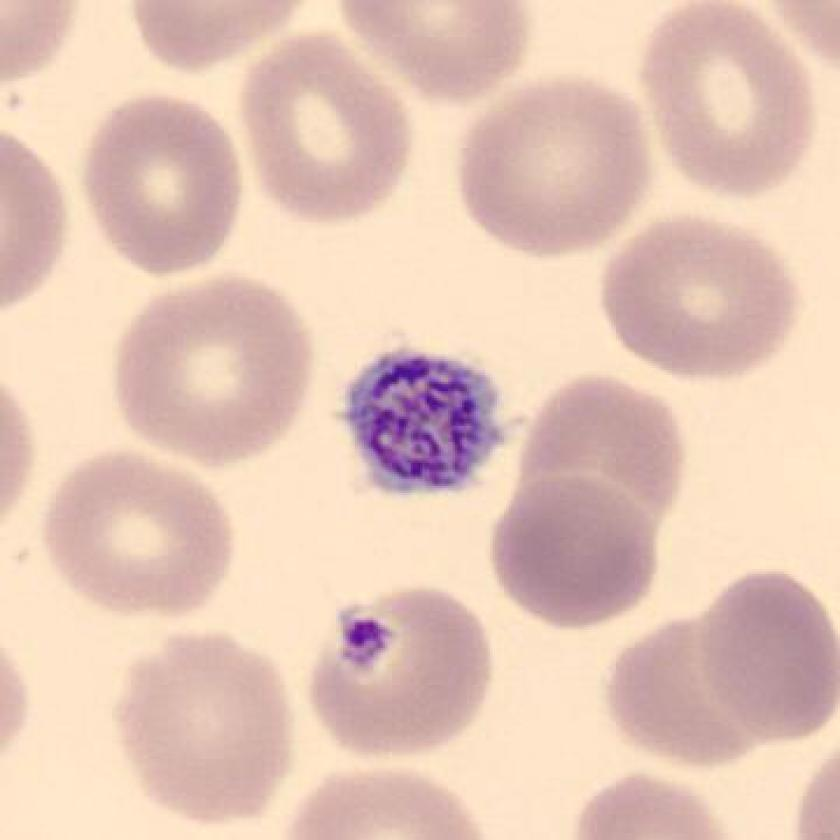platelets: (335, 332, 514, 510)
